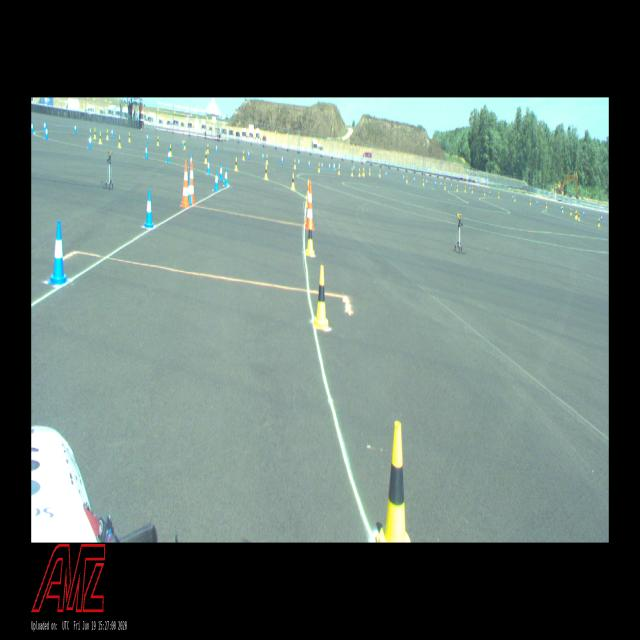blue_cone: (48, 220, 68, 284), (144, 190, 154, 227), (214, 170, 219, 190), (189, 178, 192, 205), (224, 168, 228, 185), (219, 163, 223, 180), (167, 149, 171, 163), (207, 158, 210, 174), (89, 134, 92, 148), (145, 145, 148, 158), (45, 126, 48, 138), (190, 153, 192, 168), (31, 121, 33, 133), (215, 144, 218, 152), (44, 120, 46, 132), (248, 149, 250, 158), (262, 152, 264, 161), (74, 124, 76, 133), (111, 128, 113, 137), (146, 133, 148, 142), (298, 158, 300, 166), (334, 162, 336, 170), (321, 161, 323, 169), (282, 156, 284, 164), (182, 139, 184, 147), (512, 194, 514, 200), (309, 160, 310, 168), (329, 162, 330, 170), (561, 204, 562, 211), (583, 210, 584, 216), (451, 182, 452, 188), (537, 200, 538, 206), (339, 163, 340, 169), (414, 177, 415, 182), (441, 181, 442, 186), (427, 179, 428, 184), (386, 171, 386, 177), (404, 174, 404, 180), (436, 180, 436, 186), (602, 215, 602, 220), (354, 165, 354, 171), (490, 190, 490, 195), (470, 186, 470, 191)
large_orange_cone: (180, 160, 190, 208), (305, 183, 314, 230), (190, 162, 195, 204), (306, 181, 310, 221)
yellow_cone: (376, 422, 411, 541), (314, 266, 328, 328), (306, 219, 314, 255), (291, 172, 295, 190), (264, 164, 268, 180), (306, 180, 309, 198), (235, 157, 238, 171), (99, 131, 102, 144), (118, 135, 121, 147), (89, 129, 92, 140), (183, 140, 186, 150), (242, 151, 245, 160), (106, 130, 109, 139), (170, 144, 172, 157), (205, 151, 207, 163), (266, 154, 268, 164), (294, 159, 296, 169), (157, 136, 159, 146), (94, 128, 96, 138), (128, 132, 130, 141), (318, 163, 320, 172), (207, 144, 209, 153), (338, 166, 340, 175), (570, 208, 572, 215), (351, 168, 353, 175), (598, 219, 600, 226), (406, 175, 408, 182), (363, 169, 365, 176), (578, 213, 580, 220), (379, 170, 381, 177), (369, 168, 371, 175), (444, 182, 446, 189), (464, 186, 466, 192), (562, 206, 564, 212), (514, 196, 516, 201), (359, 168, 360, 176), (423, 179, 424, 186), (362, 168, 363, 175), (484, 189, 485, 195), (546, 202, 547, 208), (457, 185, 458, 191), (472, 187, 473, 193), (575, 212, 576, 218), (530, 199, 531, 204), (498, 193, 499, 198)
